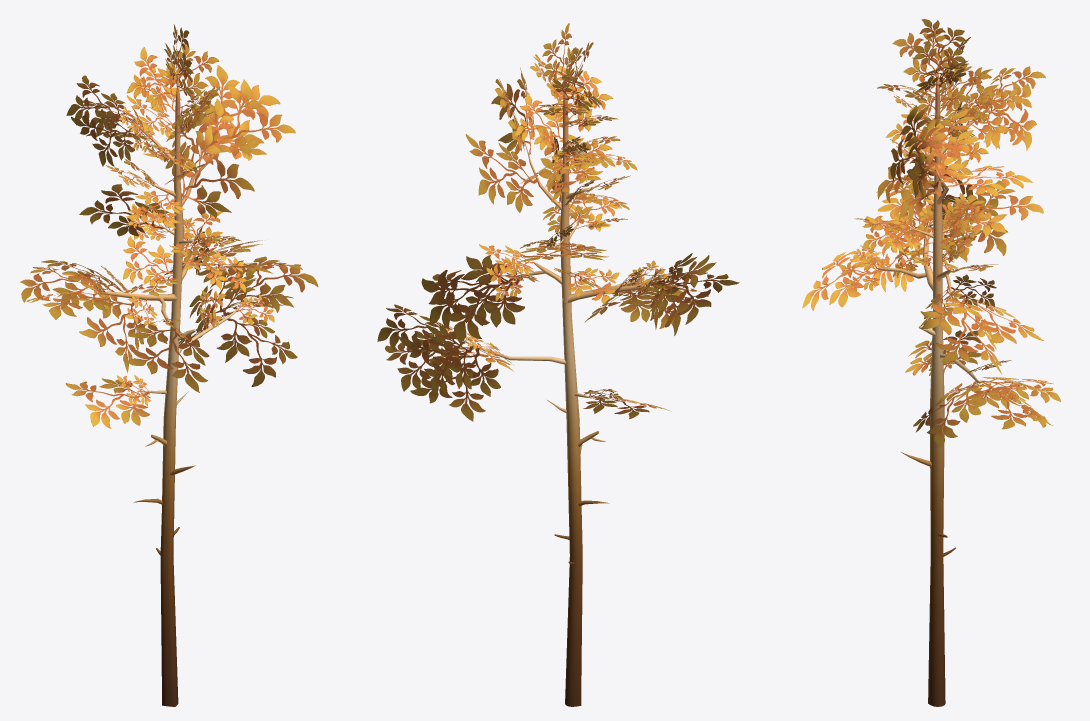
Rendered from Tree_3.fbx.
3 renders of one model, left to right at view 1: azimuth 30°, elevation 25°; view 2: azimuth 150°, elevation 25°; view 3: azimuth 270°, elevation 25°, orthographic. The views are drawn at different scales.
Parts seen in each view (by area): view 1: Foliage, Trunk3; view 2: Foliage, Trunk3; view 3: Foliage, Trunk3.
Boxes of the visible parts, x1=… form: Foliage: x1=20, y1=24, x2=318, y2=428; Trunk3: x1=100, y1=68, x2=248, y2=706; Foliage: x1=377, y1=23, x2=739, y2=421; Trunk3: x1=463, y1=70, x2=654, y2=706; Foliage: x1=802, y1=19, x2=1060, y2=447; Trunk3: x1=875, y1=58, x2=989, y2=706.
Size of the model in its own units: 336 by 678 by 254.
